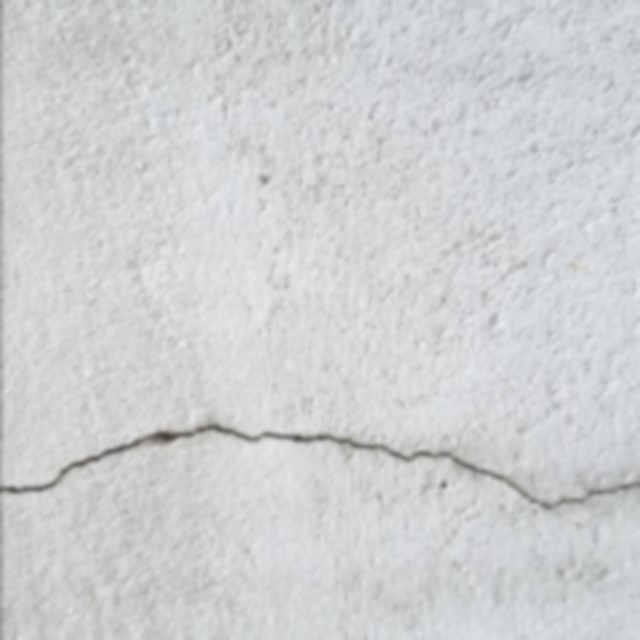SurfaceCrack: (2, 386, 640, 540)
